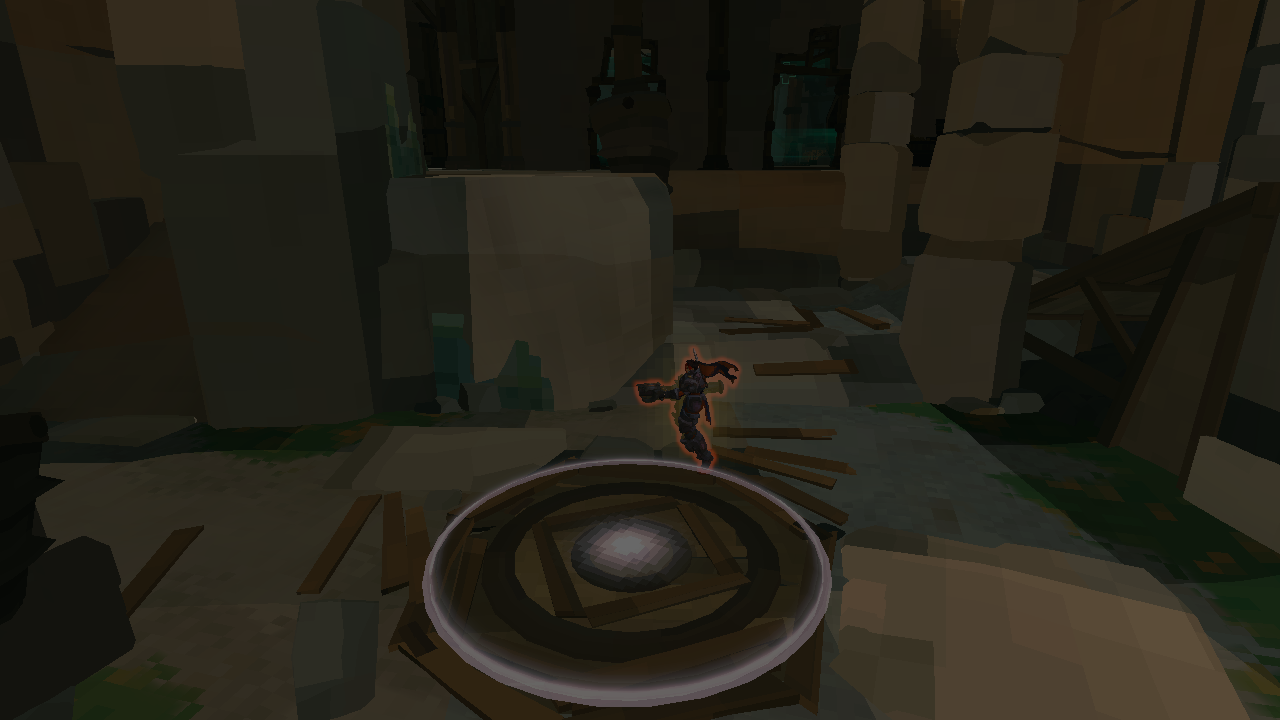model: (647, 351, 713, 475)
